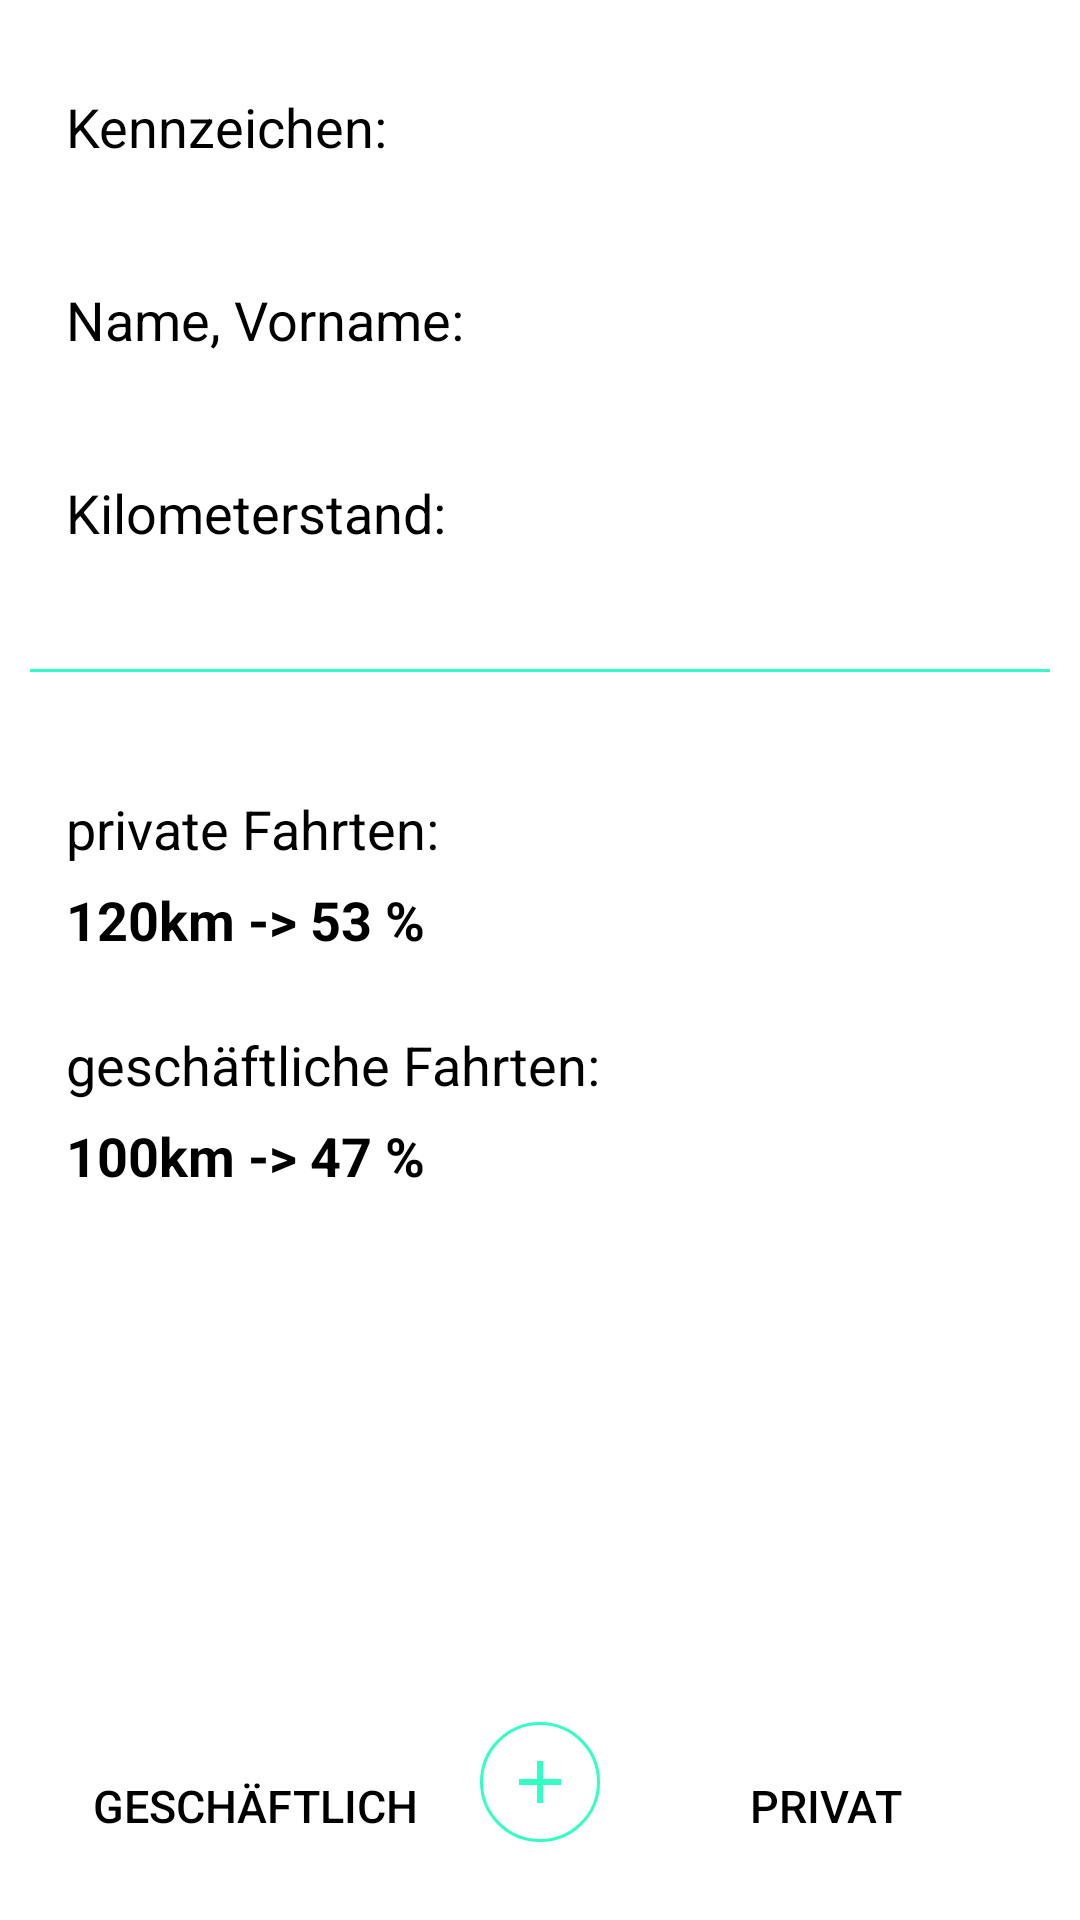

Where icons sit on this 1080px×1920px app screen, as (x1, y1, x2, y2):
add: (480, 1722, 600, 1842)
